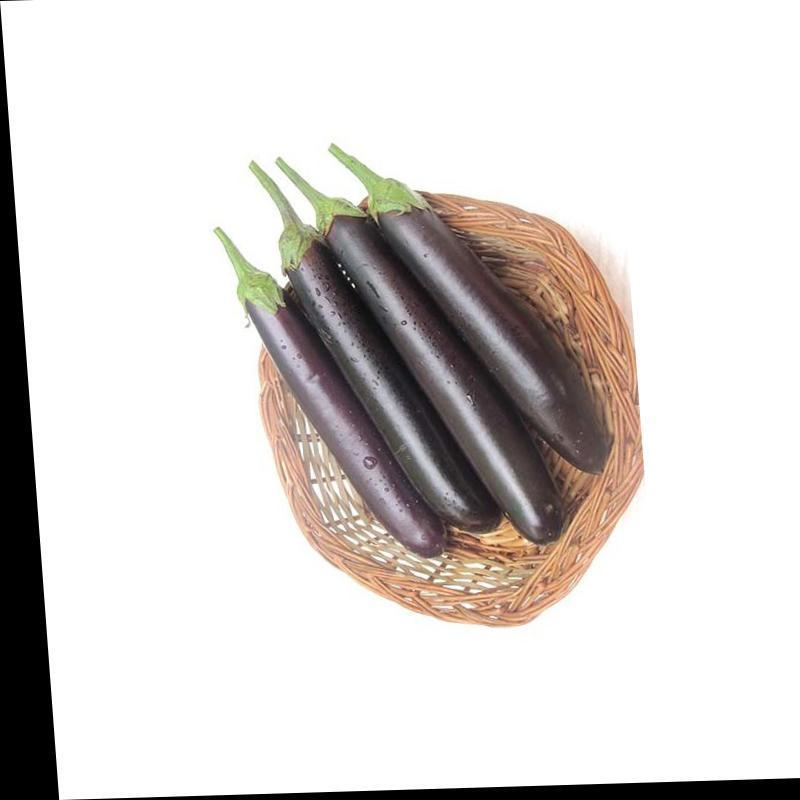eggplant: (244, 164, 537, 508)
